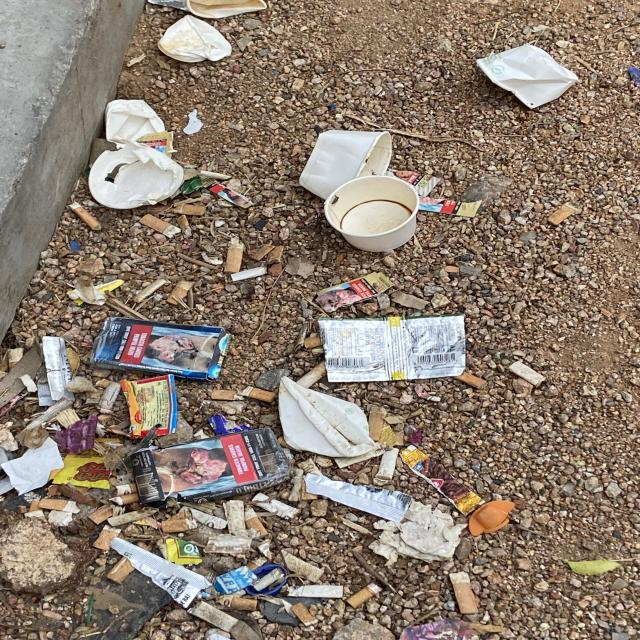giay: (132, 429, 290, 505), (90, 317, 230, 380), (278, 377, 376, 458), (315, 272, 393, 312)
giay_goi: (317, 315, 466, 383), (305, 474, 413, 523), (120, 375, 176, 438), (52, 455, 109, 490), (163, 539, 201, 566)
ly_hop_giay: (87, 99, 183, 209), (324, 175, 419, 251), (477, 43, 579, 108), (299, 129, 392, 199), (157, 14, 231, 61)
